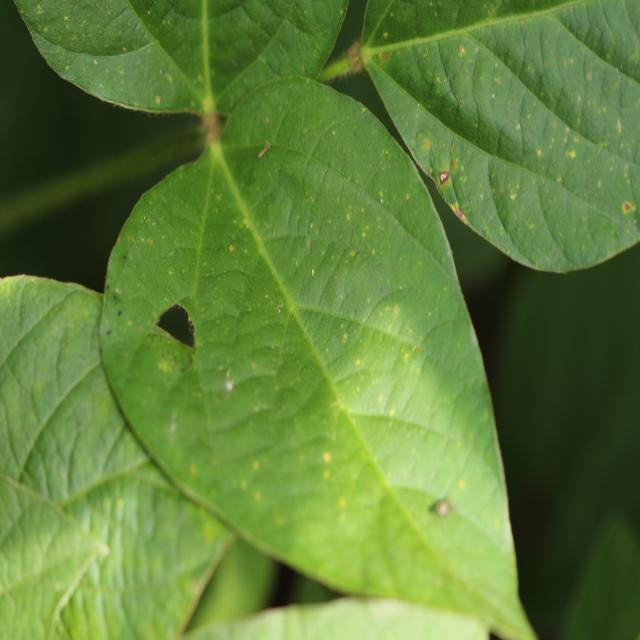Soybean: (0, 0, 640, 640)
downey_mildew: (211, 111, 486, 599), (117, 259, 361, 562), (303, 364, 519, 623), (1, 278, 174, 523), (442, 266, 530, 609), (426, 142, 634, 271), (66, 474, 227, 640), (265, 127, 402, 311), (0, 9, 97, 249), (541, 278, 640, 494), (494, 13, 637, 153), (104, 159, 209, 349), (199, 377, 328, 528), (340, 316, 479, 454), (360, 121, 474, 285), (327, 188, 439, 338), (372, 1, 628, 62), (107, 326, 207, 477), (395, 36, 515, 157), (182, 595, 491, 640), (39, 40, 208, 113), (215, 78, 338, 173), (124, 2, 236, 101), (188, 138, 229, 396), (554, 515, 640, 638), (0, 486, 92, 600), (0, 276, 95, 386), (192, 309, 286, 417), (549, 104, 631, 222), (363, 415, 469, 493), (45, 300, 107, 428), (487, 156, 564, 258), (290, 251, 352, 375), (298, 234, 378, 322), (439, 135, 505, 234), (228, 159, 303, 246), (222, 2, 304, 81), (512, 219, 634, 272), (62, 398, 128, 495), (172, 540, 236, 633), (477, 54, 532, 155), (0, 356, 46, 476), (197, 216, 263, 299), (311, 3, 376, 86), (54, 458, 161, 508), (56, 564, 125, 640), (195, 268, 261, 347), (325, 183, 387, 266), (30, 1, 134, 50), (483, 1, 615, 33), (153, 108, 222, 163), (369, 25, 475, 60), (78, 86, 195, 117), (592, 2, 640, 69), (360, 1, 417, 57), (396, 1, 471, 39), (448, 44, 482, 113), (285, 563, 336, 608), (152, 301, 196, 351), (149, 330, 191, 373), (98, 7, 144, 44), (199, 1, 214, 112), (103, 277, 126, 337), (256, 289, 290, 322), (197, 267, 249, 287), (203, 131, 231, 166), (200, 110, 225, 147), (627, 167, 639, 228), (502, 180, 522, 206), (429, 497, 453, 518), (200, 95, 216, 118), (257, 138, 272, 160), (180, 353, 195, 373), (96, 539, 110, 559), (168, 412, 178, 438), (448, 140, 455, 172), (622, 200, 635, 214), (455, 207, 466, 222), (439, 170, 450, 185), (322, 451, 332, 463), (189, 465, 198, 478), (224, 379, 233, 392), (565, 149, 576, 159), (338, 496, 346, 509), (254, 491, 262, 503), (276, 300, 283, 313), (634, 48, 640, 63), (240, 479, 248, 490), (252, 460, 260, 471), (458, 479, 466, 490), (380, 284, 387, 295), (381, 53, 389, 62), (389, 408, 396, 418), (459, 46, 466, 56), (424, 138, 430, 149), (617, 120, 622, 132), (450, 203, 456, 213), (114, 287, 121, 295), (450, 160, 456, 169), (461, 214, 467, 223), (229, 244, 235, 253), (494, 77, 501, 84), (586, 72, 592, 80), (509, 193, 515, 200), (354, 307, 358, 317), (112, 293, 117, 301), (310, 195, 315, 203), (393, 305, 398, 313), (122, 253, 127, 260), (106, 329, 111, 336), (117, 310, 122, 317), (556, 175, 561, 182), (381, 164, 386, 171), (346, 214, 351, 221), (306, 240, 311, 247), (537, 149, 542, 156), (383, 32, 388, 39), (106, 283, 110, 291), (156, 96, 160, 104), (361, 232, 366, 238), (361, 107, 366, 113), (459, 100, 464, 106), (350, 251, 355, 257), (146, 239, 151, 245), (64, 16, 69, 22), (610, 158, 614, 165), (577, 96, 581, 103), (169, 268, 173, 275), (516, 123, 520, 130), (480, 193, 484, 200), (406, 193, 410, 200), (429, 167, 433, 174), (544, 61, 548, 68), (372, 248, 376, 255), (44, 27, 48, 33), (379, 191, 383, 197), (65, 64, 69, 70), (340, 9, 344, 15), (417, 47, 421, 53), (553, 122, 557, 128), (452, 14, 456, 20), (436, 77, 440, 83), (268, 119, 272, 125), (488, 9, 492, 15), (93, 59, 97, 65), (598, 180, 601, 187), (380, 197, 383, 204), (147, 10, 151, 15), (379, 41, 383, 46), (492, 189, 496, 194), (520, 20, 524, 25), (127, 235, 131, 240), (249, 39, 253, 44), (123, 47, 127, 52), (467, 149, 470, 155), (508, 59, 511, 65), (570, 8, 573, 14), (451, 146, 454, 151), (492, 93, 495, 98), (616, 67, 619, 72), (444, 79, 447, 83), (638, 219, 640, 225)
